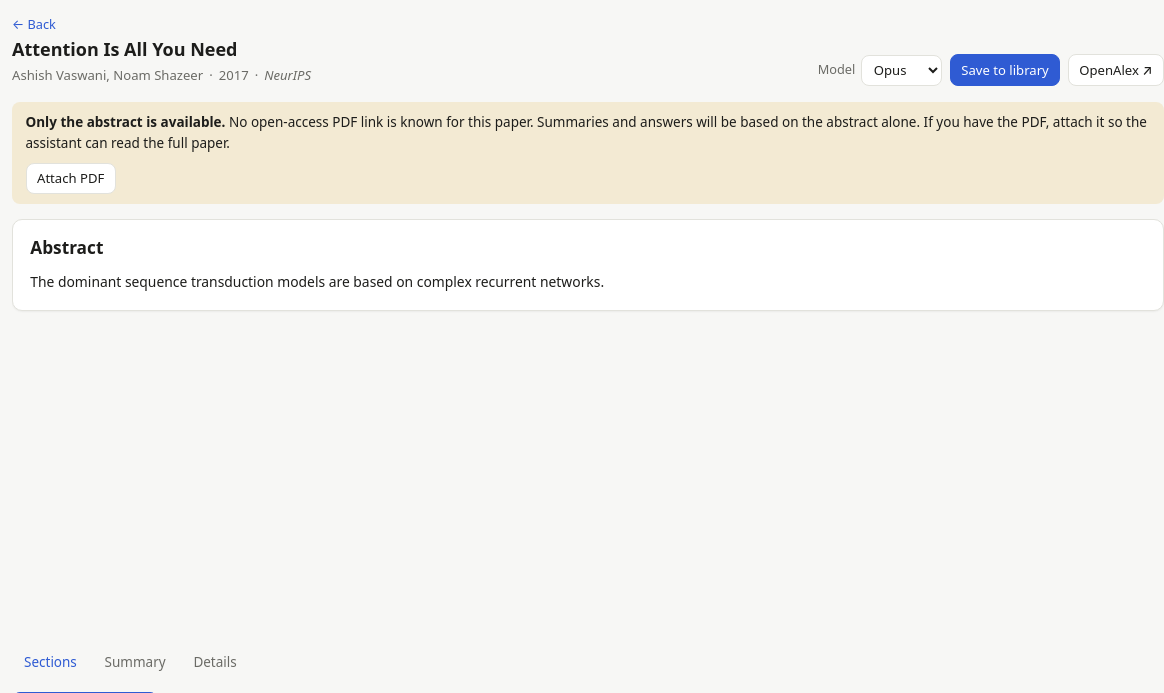
Test case: PaperPage › reports a failed save and still offers to save
Click the button "Save to library": (1005, 70) x1=950 y1=54 x2=1060 y2=86
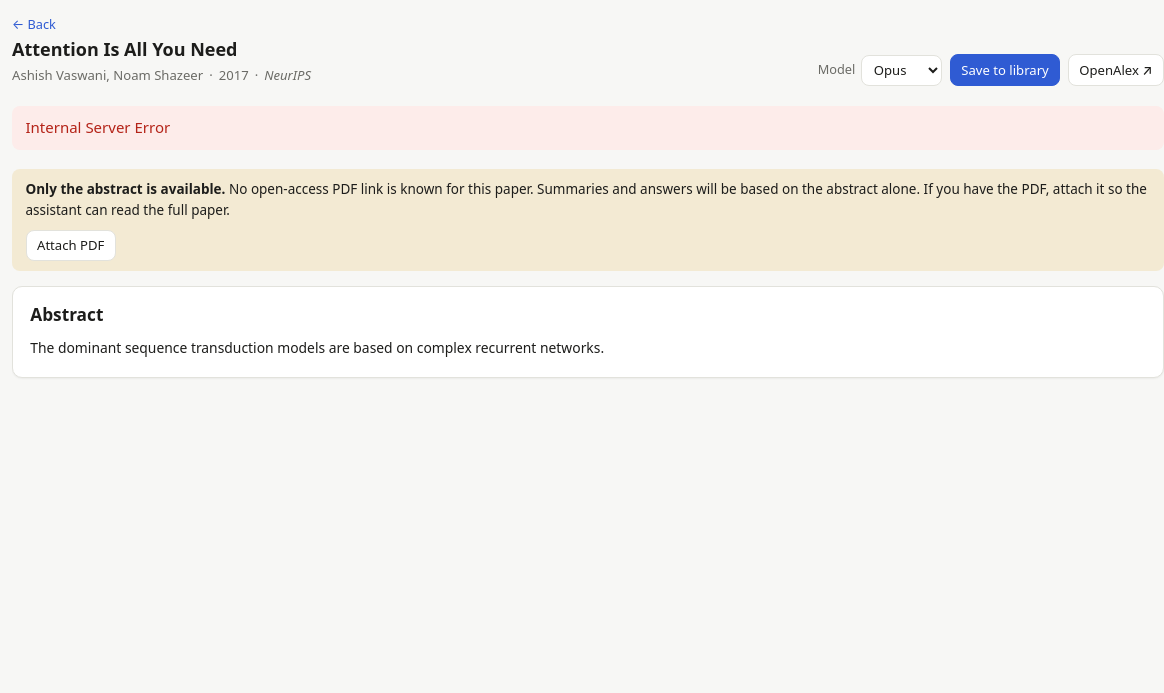
Check: the text "Internal Server Error" is shown, box x1=12 y1=106 x2=1163 y2=150
